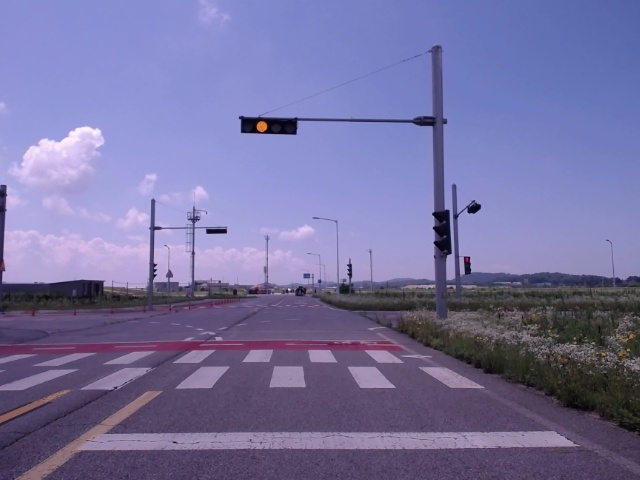orange_4: (241, 117, 296, 134)
